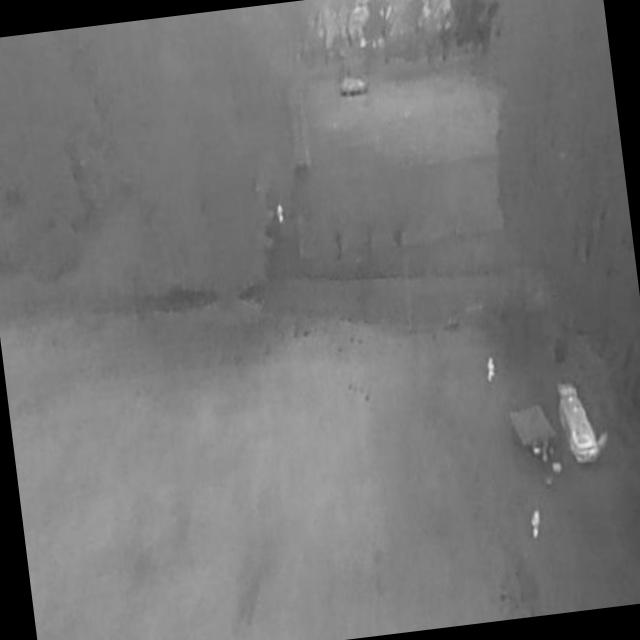person: (528, 509, 543, 539), (485, 358, 497, 384), (274, 202, 286, 226)
